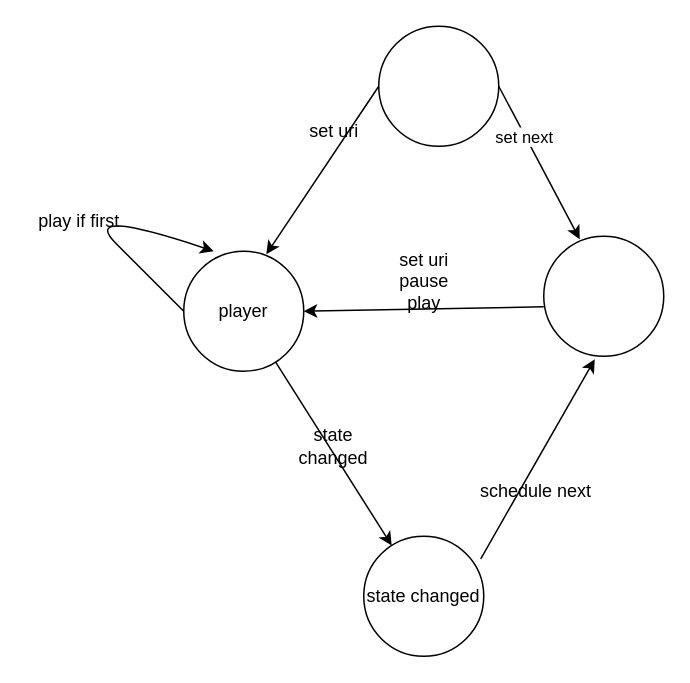
Image size: 690x683. Some labels were removed from this diagram. Here are the shapes that lost their labels. From the top down, the centre of each, then its label:
pixel 438 85: queue
pixel 603 295: song start
